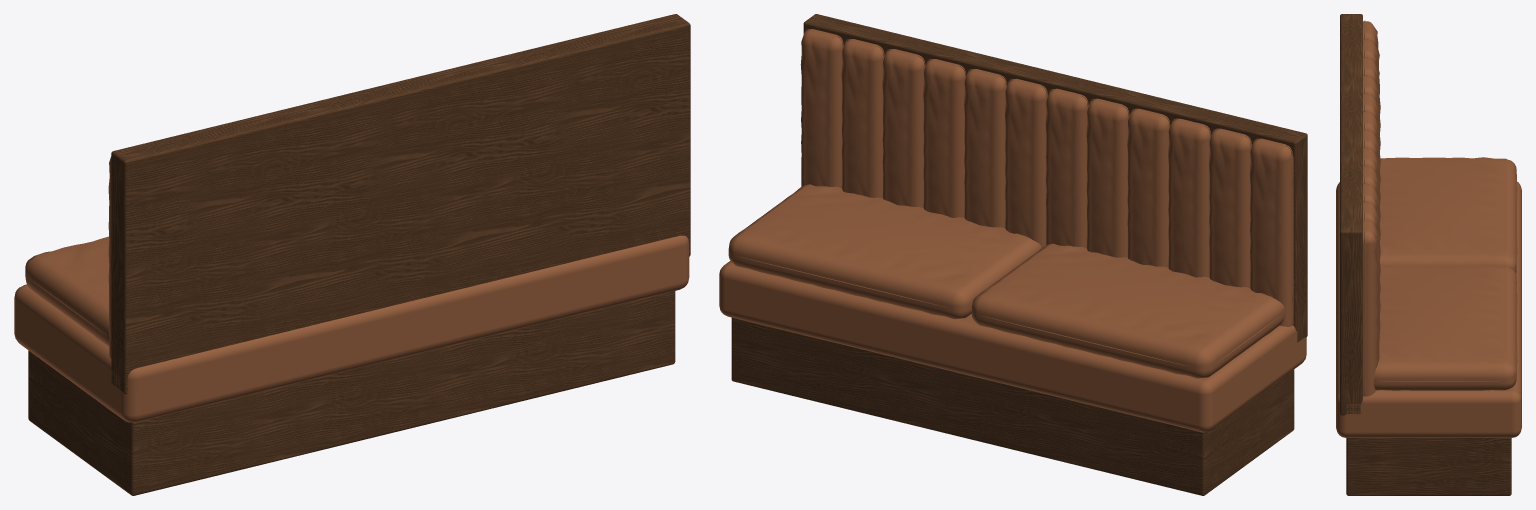
File: residential-dining-banquette.glb
The picture shows the model from 3 angles, left to right: view 1: azimuth 30°, elevation 25°; view 2: azimuth 150°, elevation 25°; view 3: azimuth 270°, elevation 25°; orthographic projection. The views are drawn at different scales.
Parts seen in each view (by area): view 1: walnut_surfaces, leather_surfaces; view 2: leather_surfaces, walnut_surfaces; view 3: leather_surfaces, walnut_surfaces.
Boxes of the visible parts, x1,y1,x2,y2 form: walnut_surfaces: [28, 14, 690, 495]; leather_surfaces: [14, 156, 689, 422]; leather_surfaces: [719, 29, 1306, 432]; walnut_surfaces: [731, 14, 1307, 495]; leather_surfaces: [1336, 20, 1521, 437]; walnut_surfaces: [1340, 14, 1511, 495].
Size of the model in its own units: 2 by 1.15 by 0.7201.
2 materials, 1 textured.
